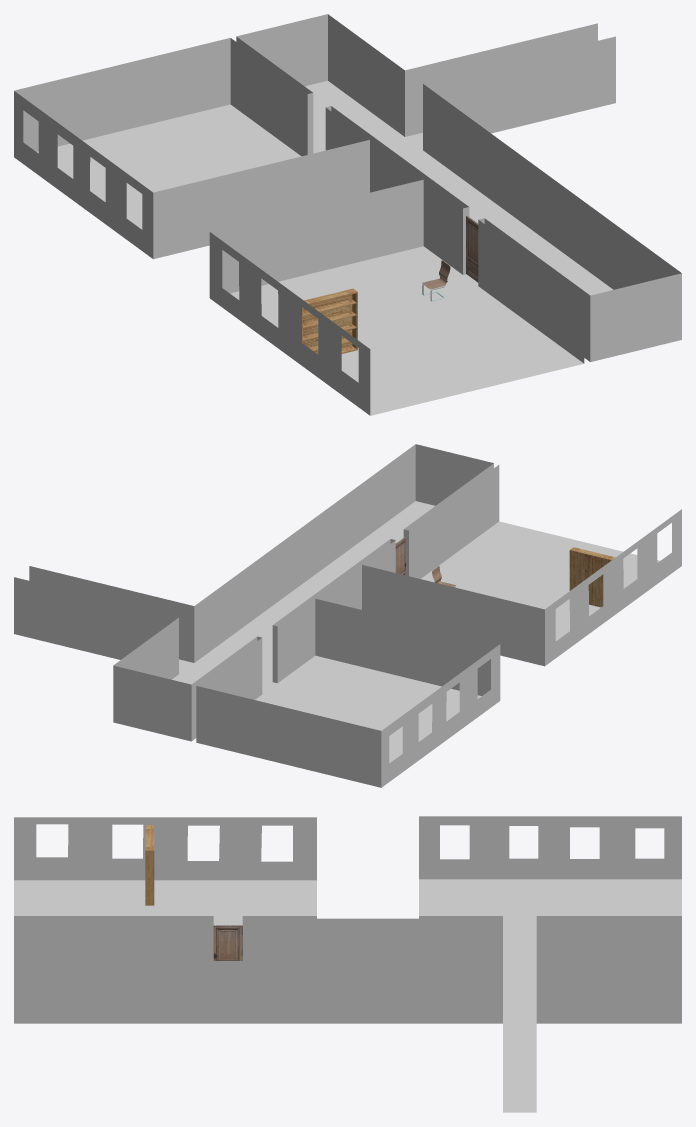
The model's file is cupboard_1.fbx.
3 renders of one model, top to bottom at view 1: azimuth 30°, elevation 25°; view 2: azimuth 150°, elevation 25°; view 3: azimuth 270°, elevation 25°, orthographic. The views are drawn at different scales.
Parts seen in each view (by area): view 1: Gebaeude, Plane, Plane.001; view 2: Gebaeude, Plane; view 3: Gebaeude, Plane.001, Plane.
Boxes of the visible parts, left/top/right/bottom form: Gebaeude: left=14, top=14, right=681, bottom=415; Plane: left=301, top=288, right=357, bottom=354; Plane.001: left=466, top=216, right=478, bottom=282; Gebaeude: left=14, top=444, right=681, bottom=787; Plane: left=569, top=547, right=615, bottom=607; Gebaeude: left=14, top=816, right=681, bottom=1112; Plane.001: left=213, top=925, right=242, bottom=960; Plane: left=145, top=825, right=154, bottom=905.
Size of the model in its own units: 2640 by 335 by 3192.
